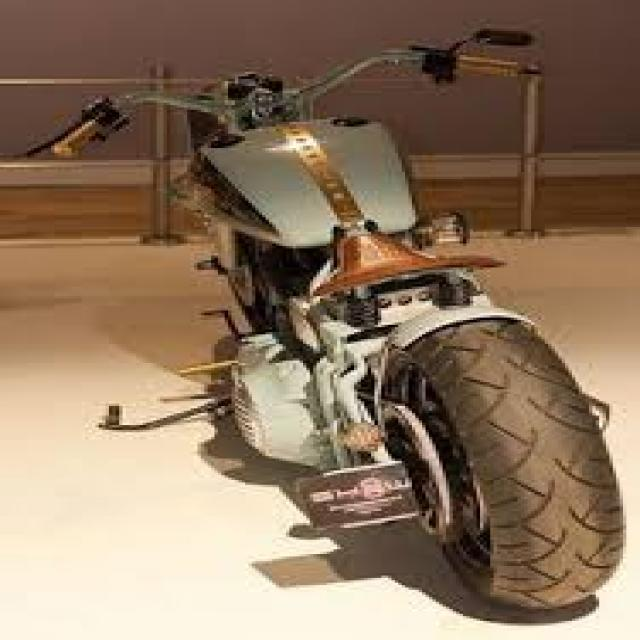Bike: (44, 24, 640, 604)
